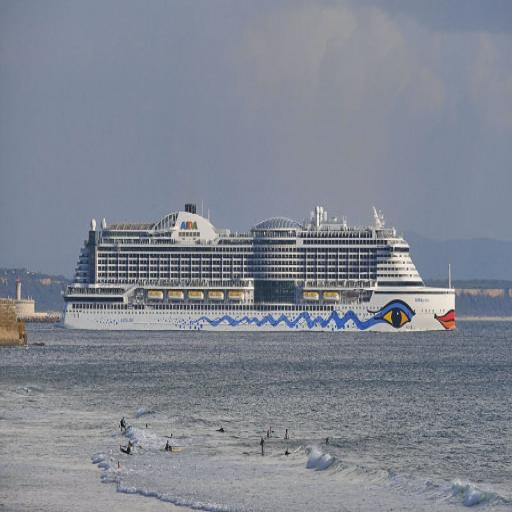cruises: (58, 200, 459, 338)
